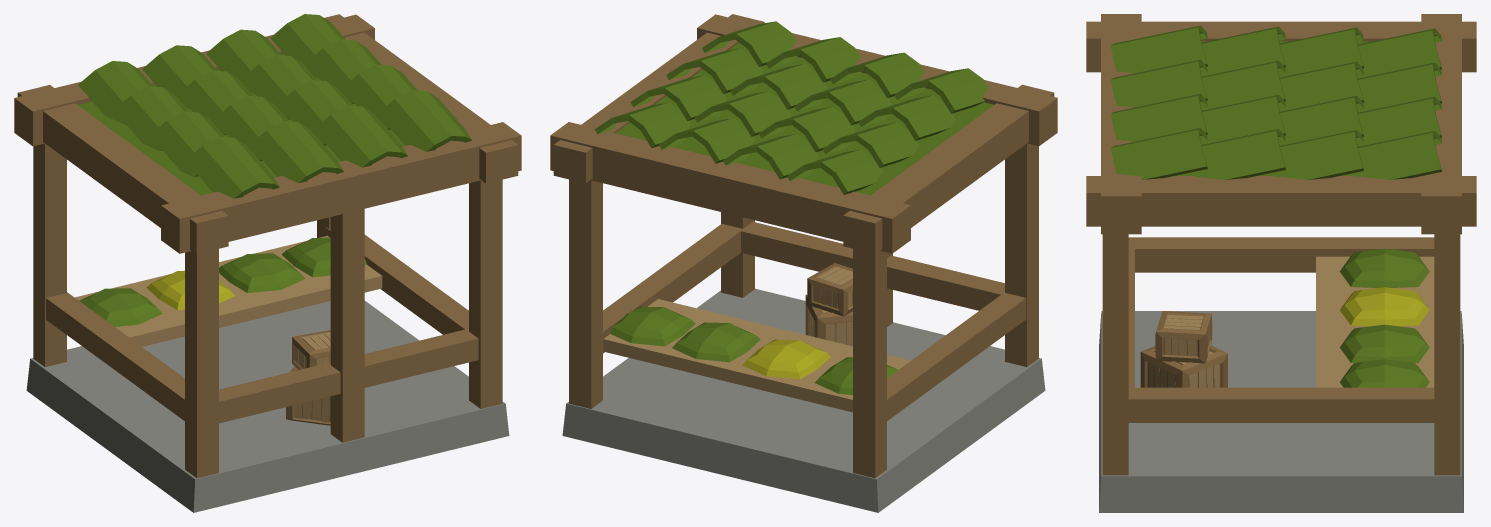
Rendered from Heavy cart.glb.
The picture shows the model from 3 angles, left to right: view 1: azimuth 30°, elevation 25°; view 2: azimuth 150°, elevation 25°; view 3: azimuth 270°, elevation 25°; orthographic projection. The views are drawn at different scales.
Parts seen in each view (by area): view 1: Market_SecondAge_Level1; view 2: Market_SecondAge_Level1; view 3: Market_SecondAge_Level1.
Part boxes in pixels (left/top/right/bottom): Market_SecondAge_Level1: left=14, top=14, right=521, bottom=512; Market_SecondAge_Level1: left=550, top=14, right=1057, bottom=512; Market_SecondAge_Level1: left=1086, top=14, right=1476, bottom=512.
Size of the model in its own units: 0.6485 by 0.5898 by 0.5872.
